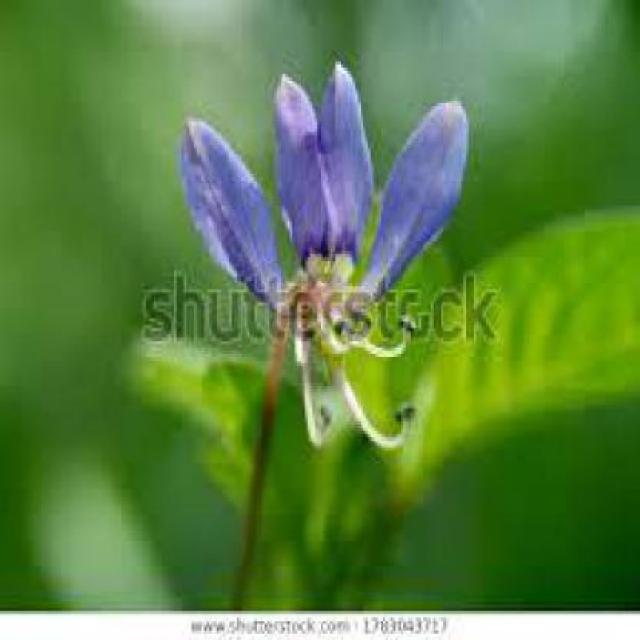flower: (172, 71, 473, 478)
